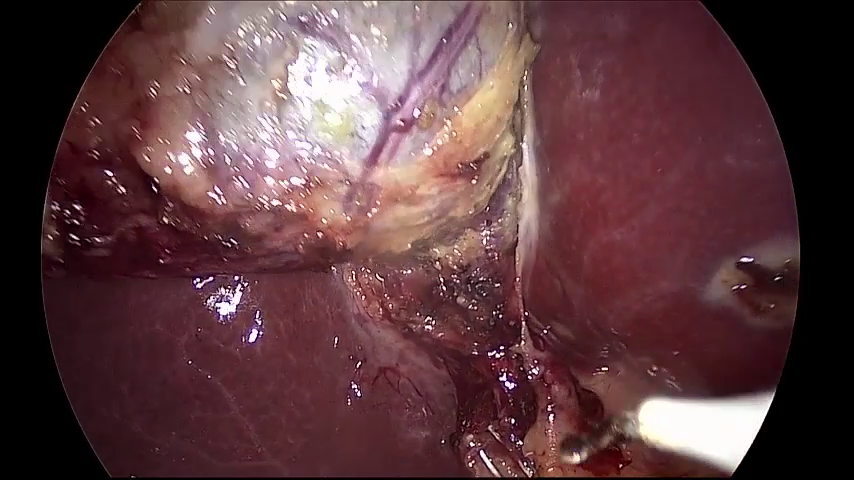lhook: (568, 396, 773, 471)
